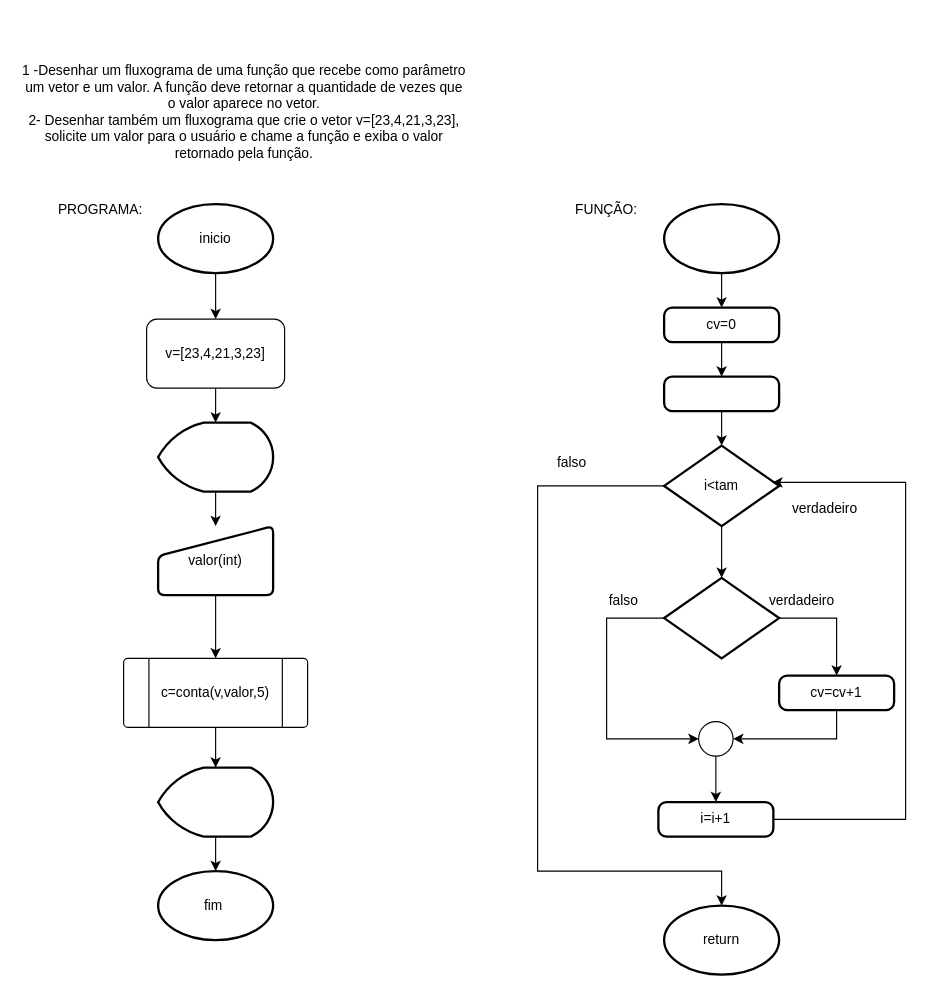
The diagram is 935 pixels wide and 995 high, and some of its shapes have lost their labels. Here are the shapes that lost their labels. From the top down, the centre of each, then its label:
At point 721,238: "conta(v,n,tam)".
At point 721,393: "i=0".
At point 215,456: "'digite o valor a ser buscado'".
At point 721,617: "v[i]==n".
At point 215,801: "'o valor aparece', c, 'vezes no vetor'".
